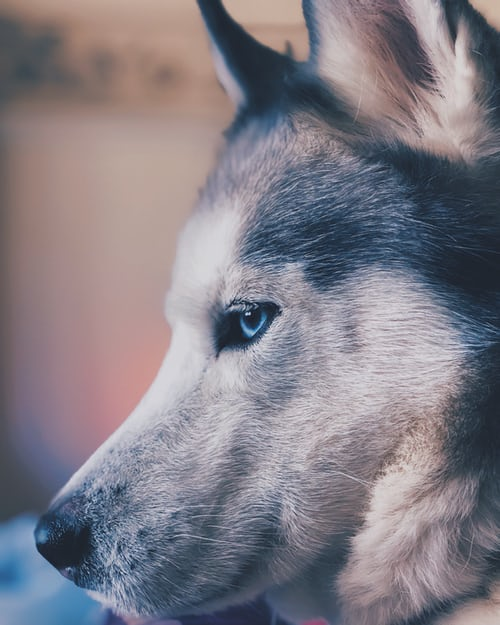husky: (48, 1, 493, 616)
